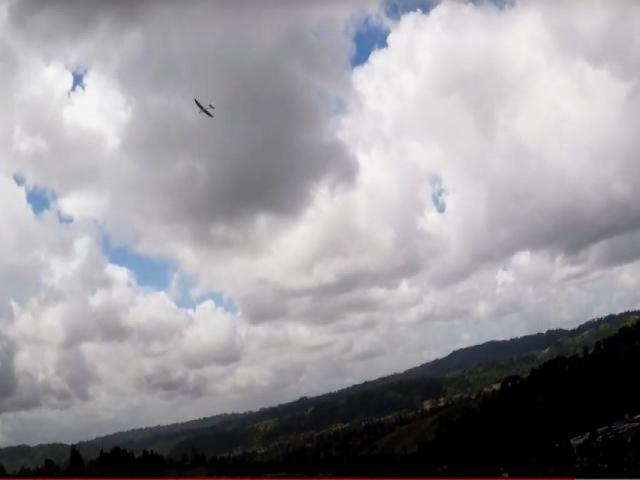iha: (193, 97, 216, 119)
